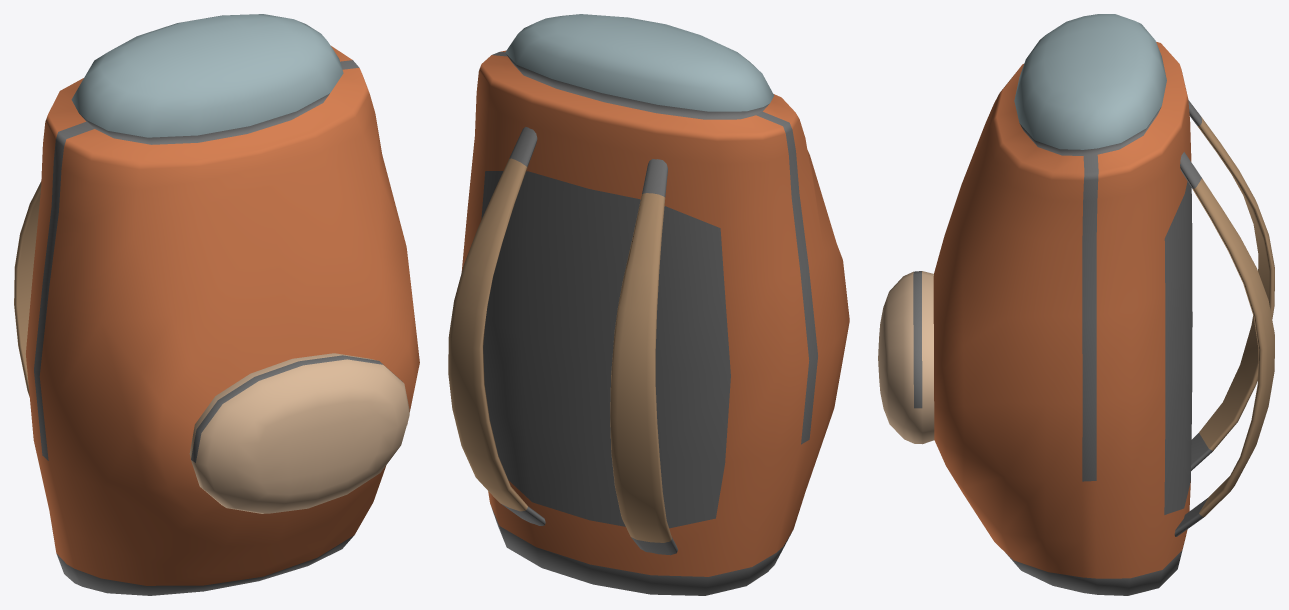
File: backpack.fbx
The picture shows the model from 3 angles, left to right: view 1: azimuth 30°, elevation 25°; view 2: azimuth 150°, elevation 25°; view 3: azimuth 270°, elevation 25°; orthographic projection. The views are drawn at different scales.
Visible parts, largest first — view 1: backpack; view 2: backpack; view 3: backpack.
Boxes of the visible parts, <box> form: backpack: <box>14,14,419,595</box>; backpack: <box>448,14,849,595</box>; backpack: <box>878,14,1274,595</box>.
Bounding box in the file's own units: 38.26 × 55.71 × 39.86.
